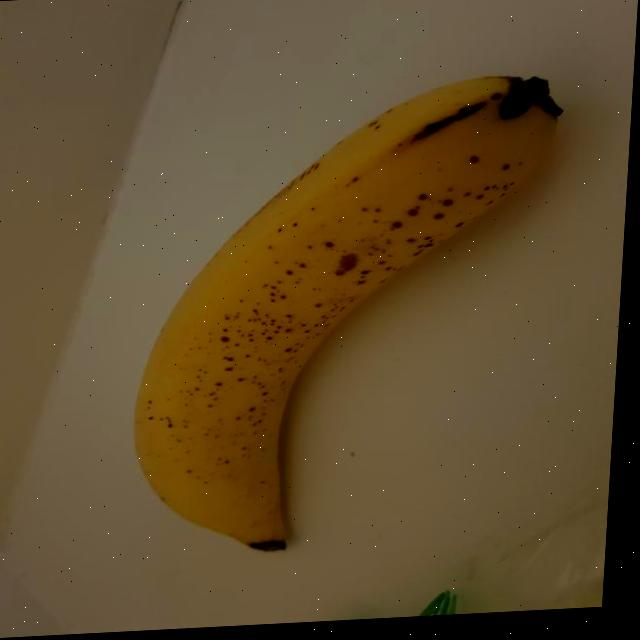banana: (120, 60, 569, 561)
